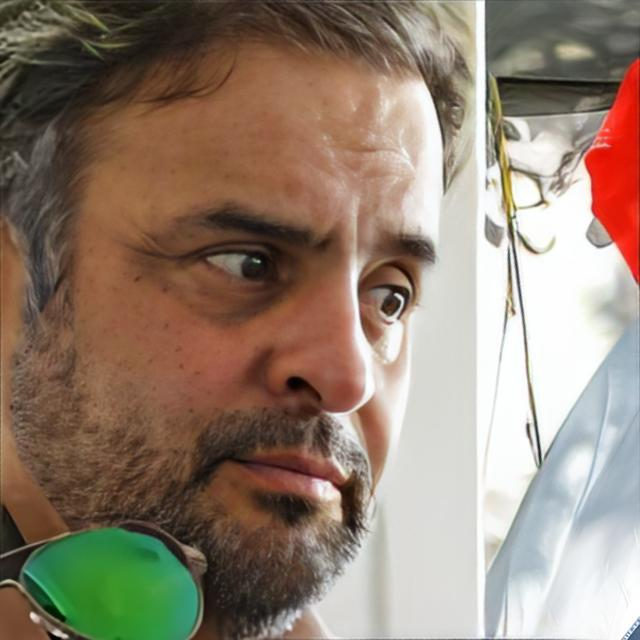Fear: (0, 49, 445, 640)
